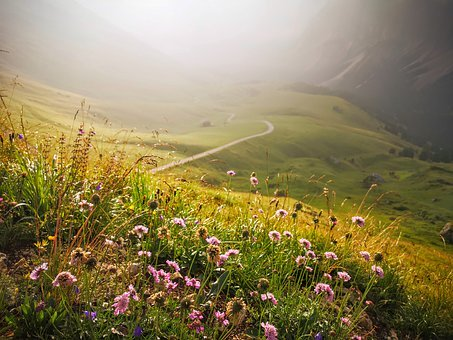field: (16, 52, 444, 333)
flower: (44, 191, 400, 337)
